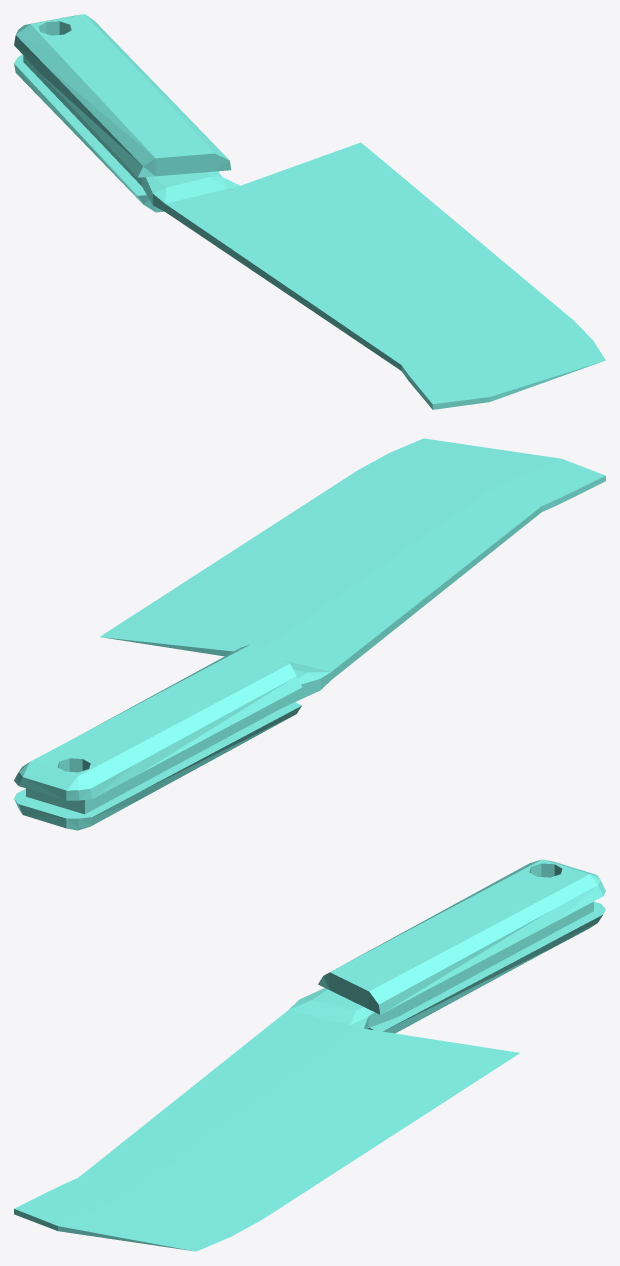
The model's file is Knife01.fbx.
The picture shows the model from 3 angles, top to bottom: view 1: azimuth 30°, elevation 25°; view 2: azimuth 150°, elevation 25°; view 3: azimuth 330°, elevation 25°; orthographic projection.
Parts seen in each view (by area): view 1: Utensils01_Uv_v001:Knife01; view 2: Utensils01_Uv_v001:Knife01; view 3: Utensils01_Uv_v001:Knife01.
Boxes of the visible parts, box(x1,y1,x2,y2) form: Utensils01_Uv_v001:Knife01: box(14, 14, 605, 409); Utensils01_Uv_v001:Knife01: box(14, 438, 605, 830); Utensils01_Uv_v001:Knife01: box(14, 859, 605, 1251).
Bounding box in the file's own units: 11.96 × 2.84 × 45.78.
1 material, 1 textured.
